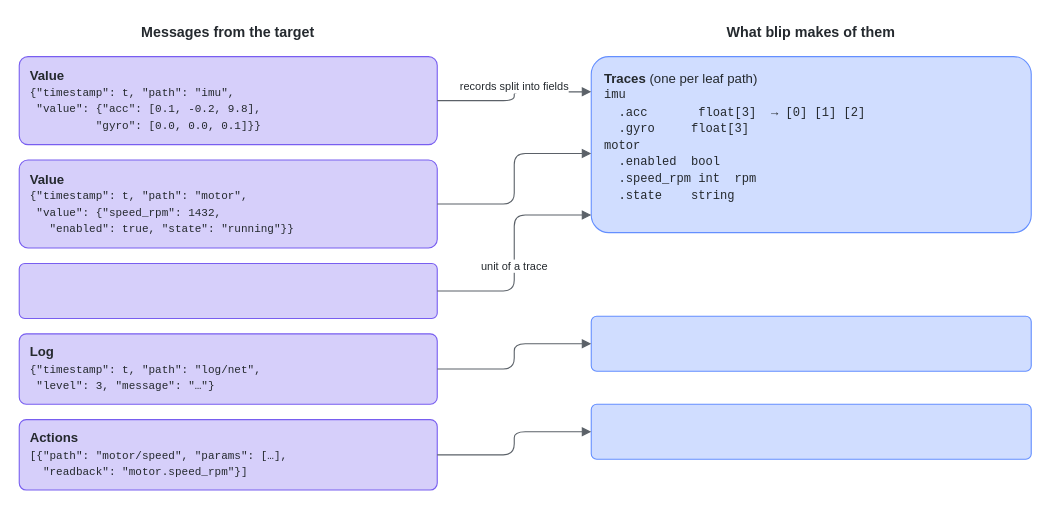
The diagram is 1051 pixels wide and 509 high, and some of its shapes have lost their labels. Each missing label, with the box of its shape:
Actions per connection shown in the tree with ⚡, invoked from an actions view: (590, 403, 1031, 459)
Log records time · path · level · message: (590, 315, 1031, 371)
ValueMetadata {"path": "motor.speed_rpm", "unit": "rpm"}: (18, 262, 437, 318)
